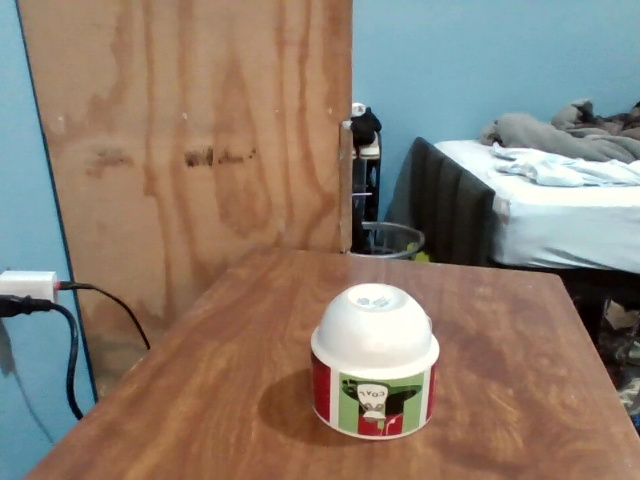taza: (309, 283, 440, 440)
